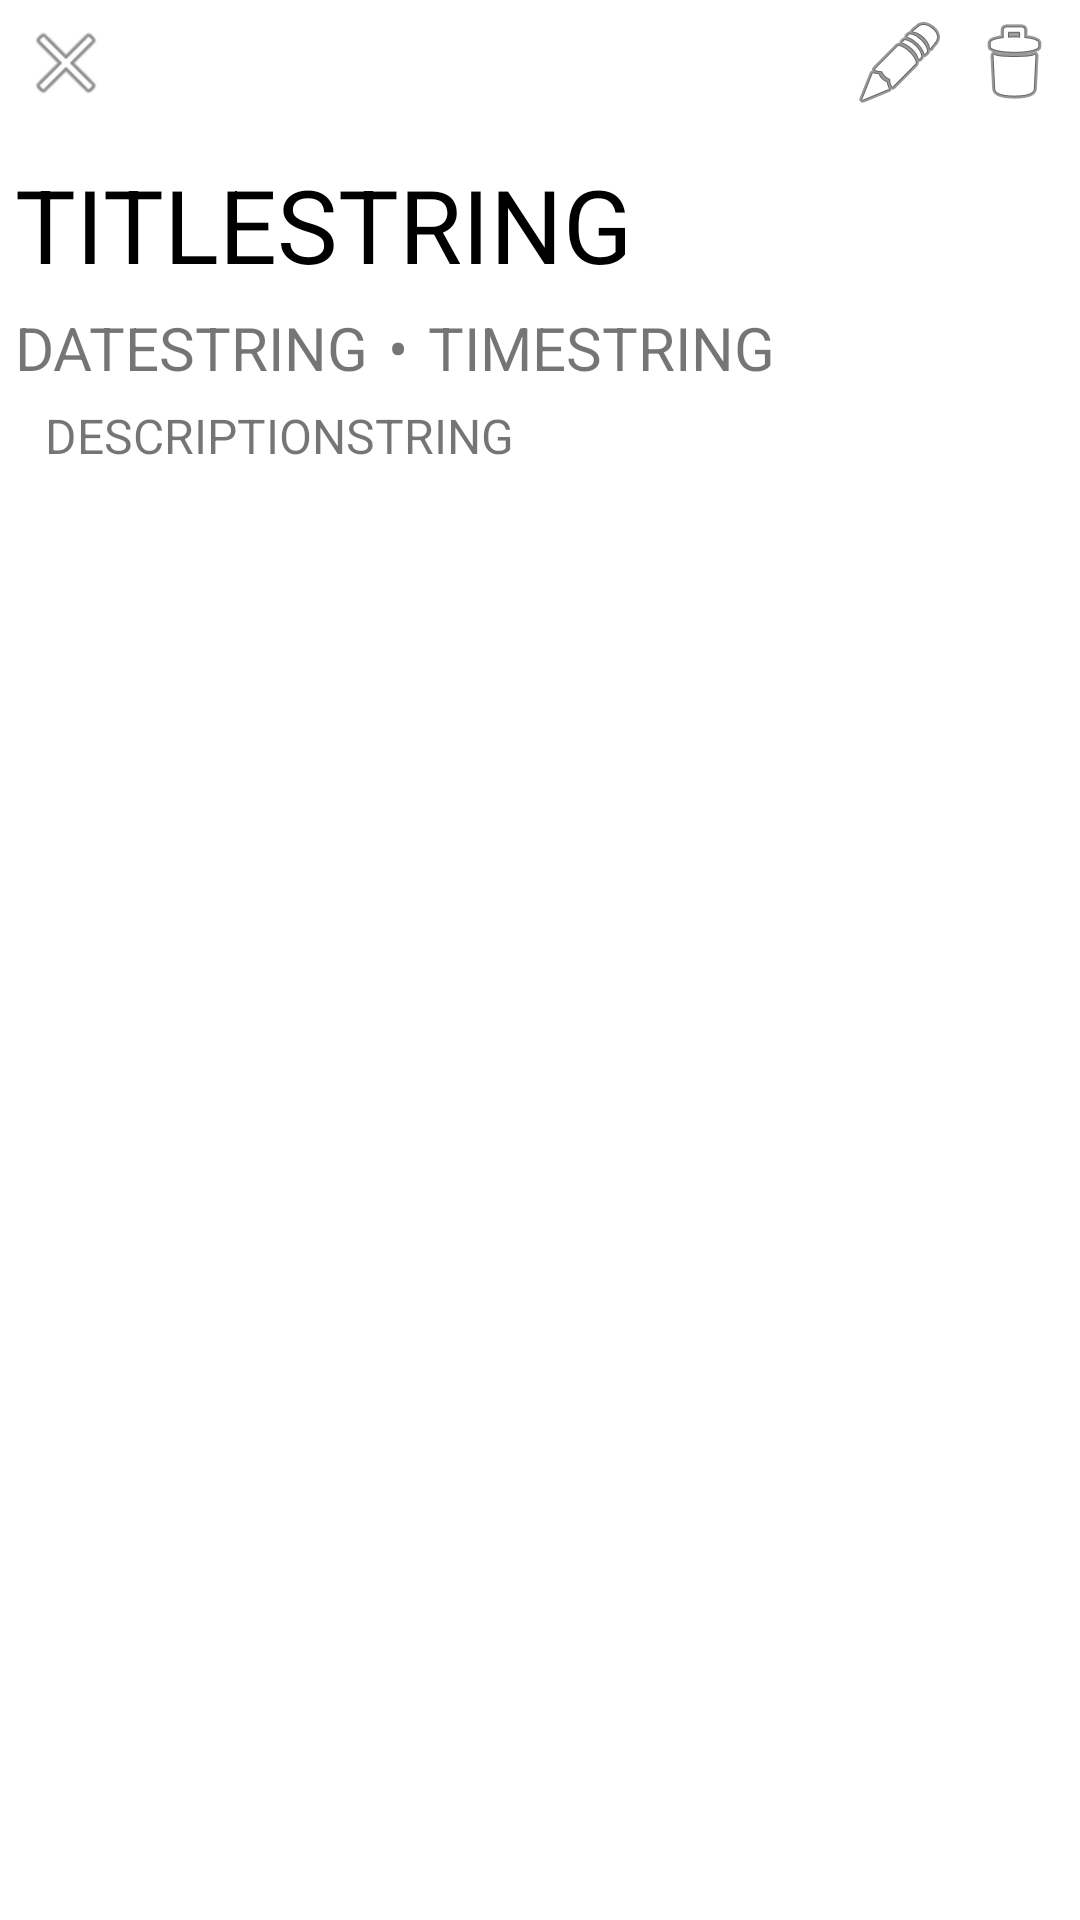

Icon click points for this 1080w x 1920h phone screenshot, format (x=x, y=y):
"X" shape: (x=66, y=63)
Outline of a pencil: (x=899, y=62)
Outline of a trash can: (x=1014, y=61)
